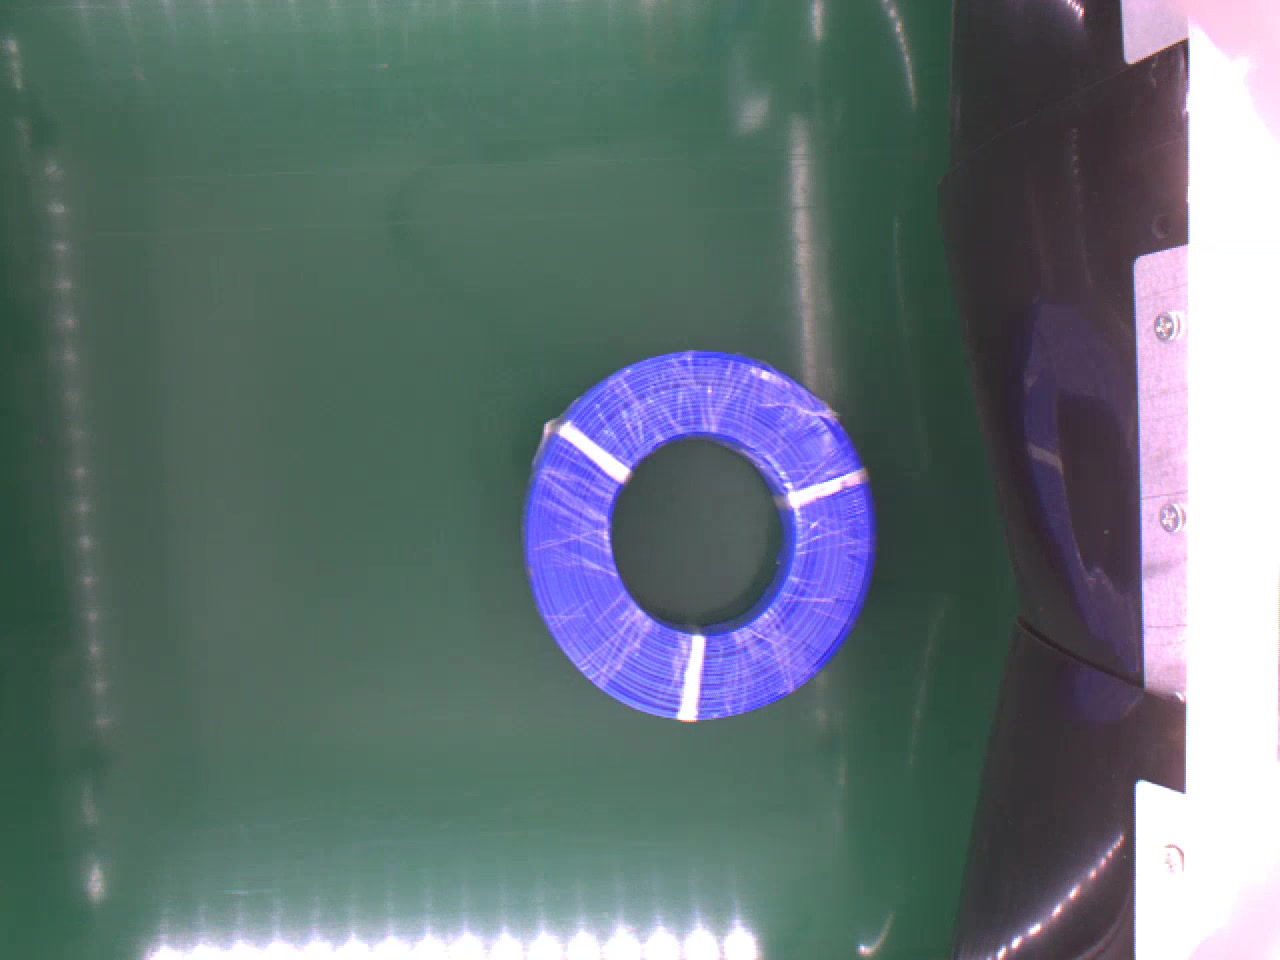blue: (516, 347, 878, 718)
